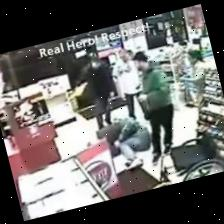person: (134, 52, 174, 164), (86, 58, 114, 129), (113, 118, 151, 169), (113, 49, 141, 118), (187, 50, 206, 105)
